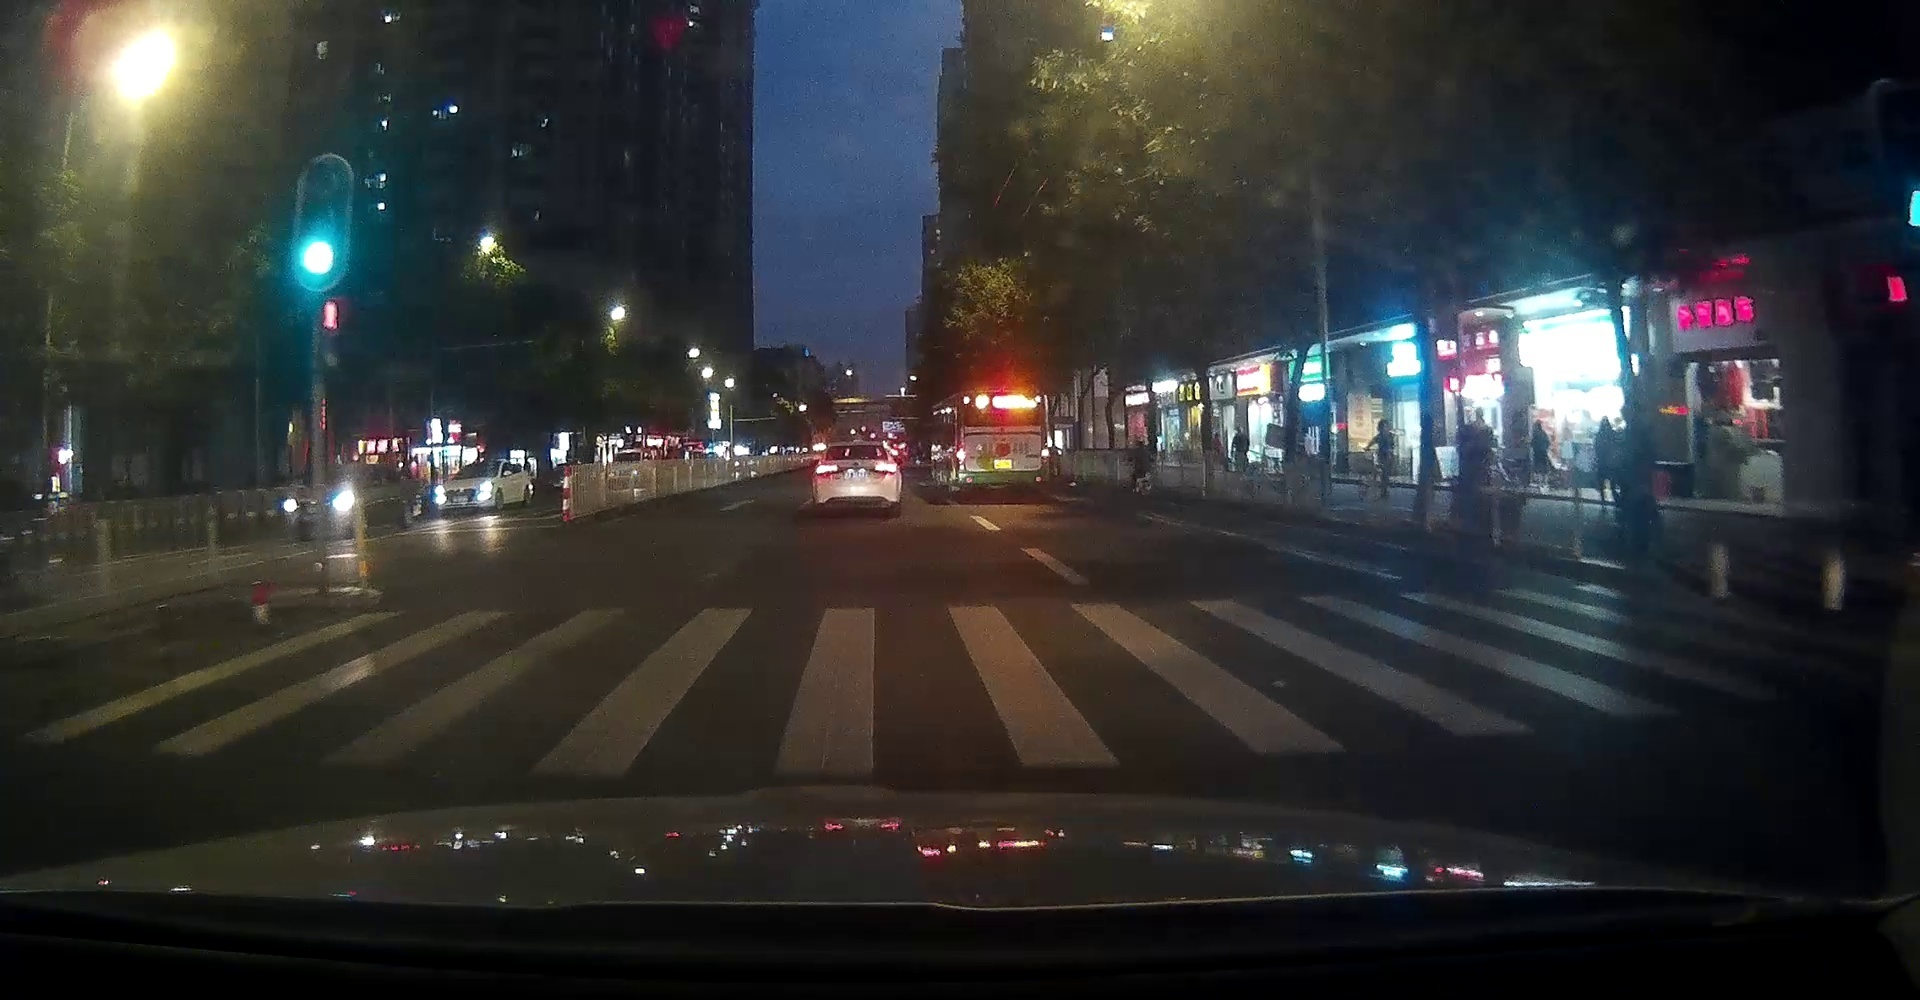L_light: (814, 463, 841, 475), (956, 442, 966, 464)
R_light: (874, 462, 898, 475)
T_light: (851, 456, 863, 459), (996, 392, 1012, 395)
day-no: (1041, 442, 1049, 464)
night-no: (954, 388, 1050, 503), (811, 442, 900, 518)
